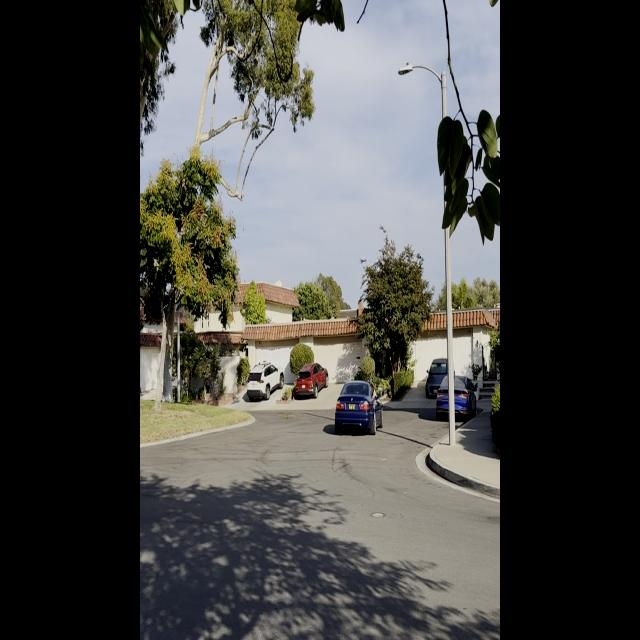Carbeetle: (323, 370, 388, 450)
Civilian: (436, 375, 475, 421), (246, 362, 285, 401), (426, 351, 457, 398), (292, 364, 324, 399)
